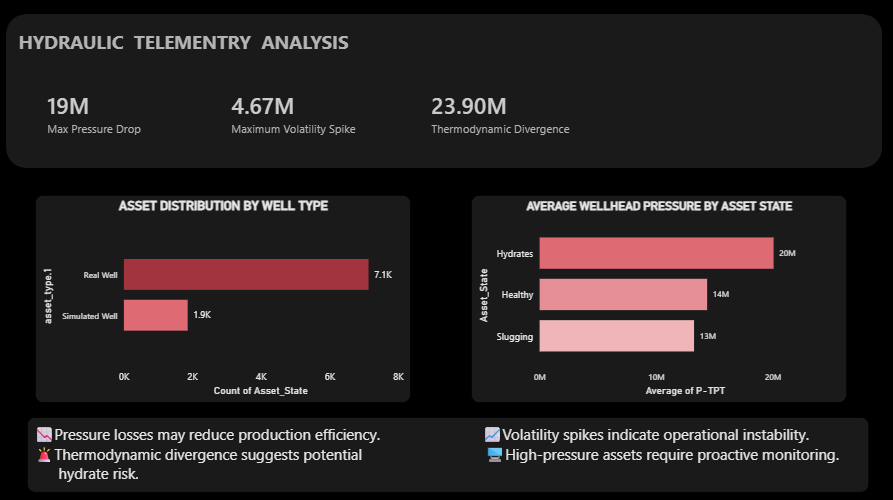

This screenshot's page, from the dashboard's own definition file:
{"tool":"powerbi","page":{"name":"Page 2","canvas":[1280,720],"ordinal":1},"visuals":[{"type":"shape","box":[0,0,1280,720],"z":0},{"type":"shape","box":[10,20,1251.7,220],"z":1000},{"type":"textbox","box":[23.3,35,565,60],"z":2000},{"type":"cardVisual","fields":{"Data":["balanced_master_data.Maximum Volatility Spike"]},"box":[303.3,95,256.7,130],"z":3000},{"type":"cardVisual","fields":{"Data":["balanced_master_data.Max Pressure Drop"]},"box":[40,95,236.2,130],"z":4000},{"type":"cardVisual","fields":{"Data":["balanced_master_data.Thermodynamic Divergence"]},"box":[588.3,95,270,130],"z":5000},{"type":"clusteredBarChart","title":"ASSET DISTRIBUTION BY WELL TYPE","fields":{"Category":["balanced_master_data.Asset_Type"],"Y":["CountNonNull(balanced_master_data.Asset_State)"]},"box":[51.7,278.3,536.7,296.7],"z":6000},{"type":"barChart","title":"AVERAGE WELLHEAD PRESSURE BY ASSET STATE","fields":{"Y":["Avg(balanced_master_data.P-TPT)"],"Category":["balanced_master_data.Asset_State"]},"box":[675,278.3,536.7,296.7],"z":7000},{"type":"textbox","box":[40,595,1203.3,108.3],"z":8000}]}

Visuals, with their boxes in screenshot pixels (x1, y1, x2, y2), scaled from the page's 1280x720 canvas onto the 893x500 screenshot:
shape: [0, 0, 892, 499]
shape: [7, 14, 880, 167]
textbox: [16, 24, 410, 66]
cardVisual - balanced_master_data.Maximum Volatility Spike: [212, 66, 391, 156]
cardVisual - balanced_master_data.Max Pressure Drop: [28, 66, 193, 156]
cardVisual - balanced_master_data.Thermodynamic Divergence: [410, 66, 599, 156]
"ASSET DISTRIBUTION BY WELL TYPE" clusteredBarChart: [36, 193, 411, 399]
"AVERAGE WELLHEAD PRESSURE BY ASSET STATE" barChart: [471, 193, 845, 399]
textbox: [28, 413, 867, 488]
